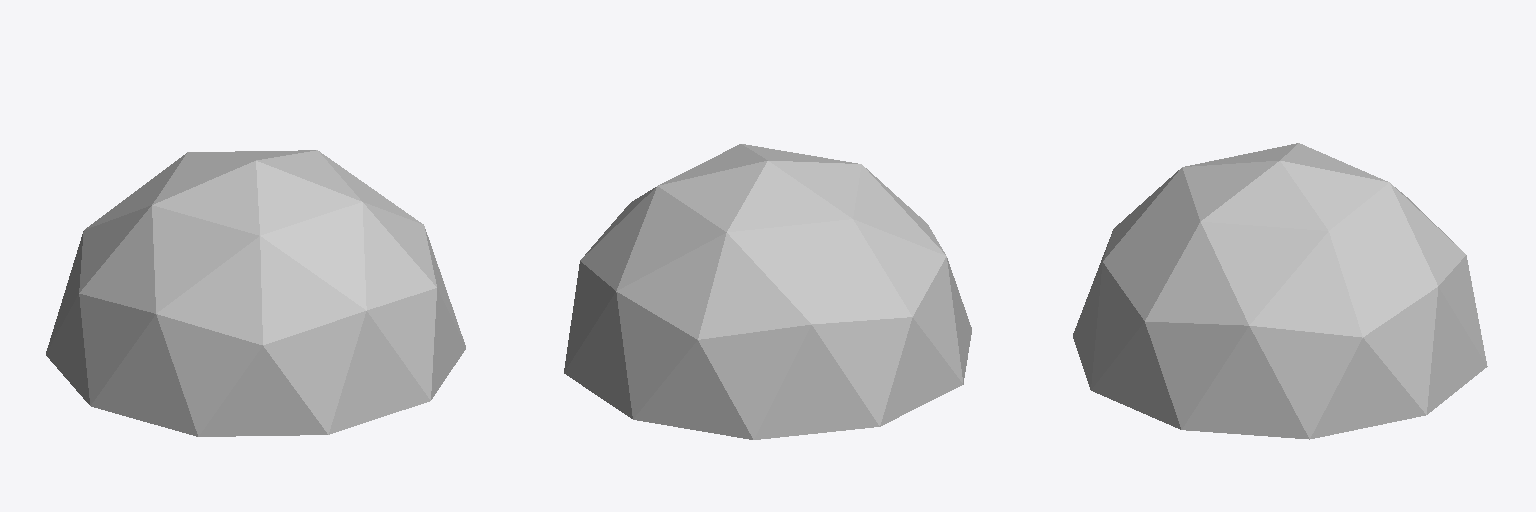
File: boomin.obj
3 renders of one model, left to right at view 1: azimuth 30°, elevation 25°; view 2: azimuth 150°, elevation 25°; view 3: azimuth 270°, elevation 25°, orthographic.
Visible parts, largest first — view 1: Icosphère.001; view 2: Icosphère.001; view 3: Icosphère.001.
Part boxes in pixels (left/top/right/bottom): Icosphère.001: left=46, top=150, right=465, bottom=436; Icosphère.001: left=564, top=144, right=971, bottom=439; Icosphère.001: left=1073, top=143, right=1487, bottom=439.
Size of the model in its own units: 1.75 by 0.8858 by 1.75.